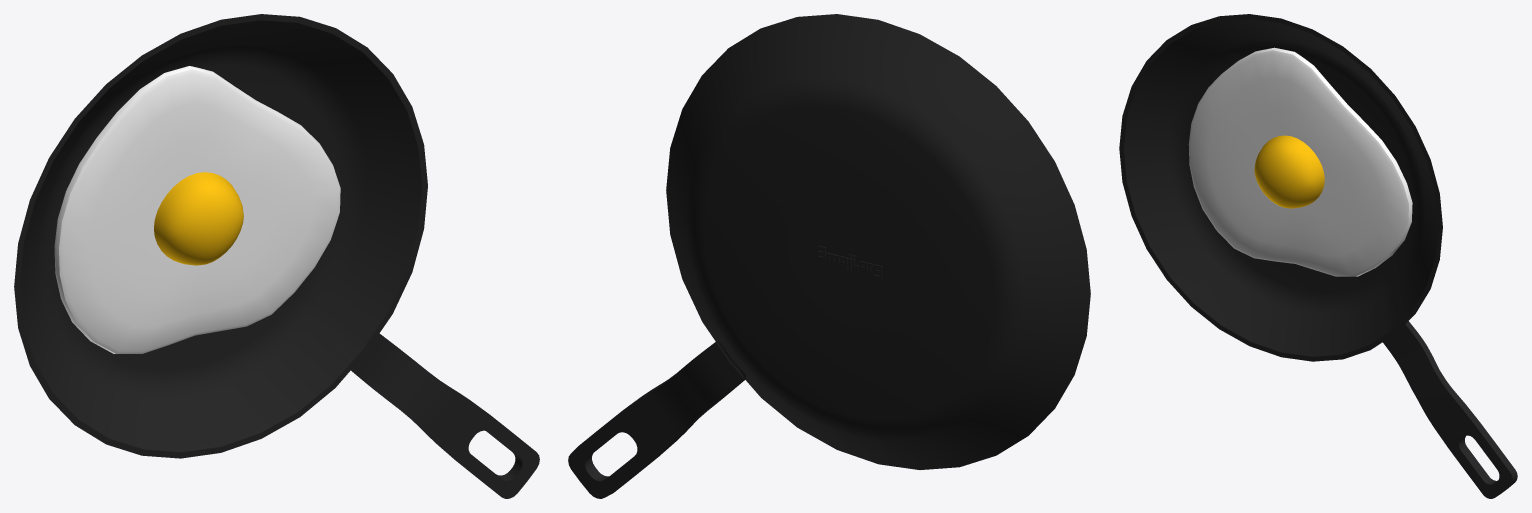
File: cooking.glb
3 views of the same model, side by side, from view 1: azimuth 30°, elevation 25°; view 2: azimuth 150°, elevation 25°; view 3: azimuth 330°, elevation 25° (orthographic). The views are drawn at different scales.
Parts seen in each view (by area): view 1: Circle.2217; view 2: Circle.2217; view 3: Circle.2217.
Part boxes in pixels (x1,y1,x2,y2): Circle.2217: (14,14,539,498); Circle.2217: (568,14,1090,498); Circle.2217: (1119,14,1517,498).
Bounding box in the file's own units: 2.18 × 2.18 × 0.2964.
Materials: 1 (1 with a texture image).
